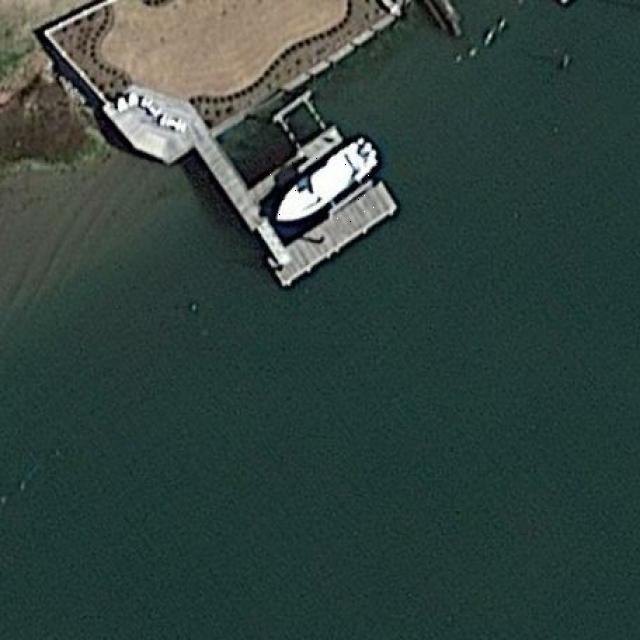boat: (268, 138, 378, 225)
